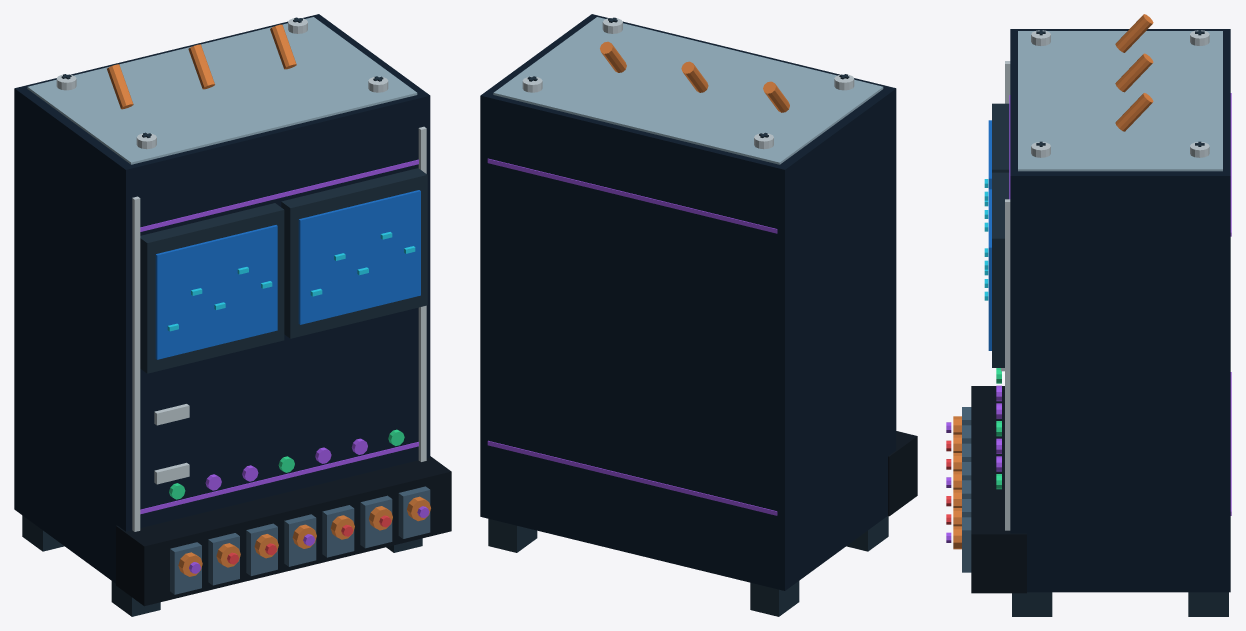
File: 57_L77_ThreeStageCMPProcessController.fbx
The picture shows the model from 3 angles, left to right: view 1: azimuth 30°, elevation 25°; view 2: azimuth 150°, elevation 25°; view 3: azimuth 270°, elevation 25°; orthographic projection.
Visible parts, largest first — view 1: ThreeStageCMPProcessController; view 2: ThreeStageCMPProcessController; view 3: ThreeStageCMPProcessController.
Boxes of the visible parts, x1,y1,x2,y2 form: ThreeStageCMPProcessController: (14,14,451,616); ThreeStageCMPProcessController: (480,14,917,616); ThreeStageCMPProcessController: (946,14,1231,616).
Size of the model in its own units: 113 by 173 by 91.84.
